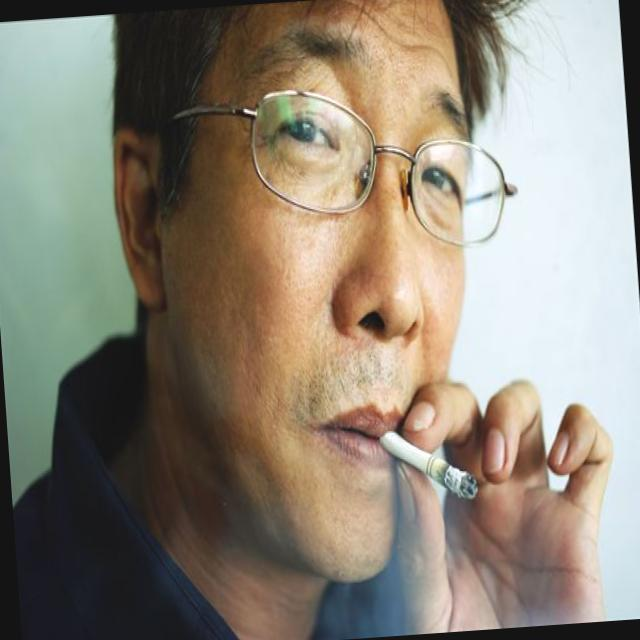cigarette: (424, 444, 479, 508)
